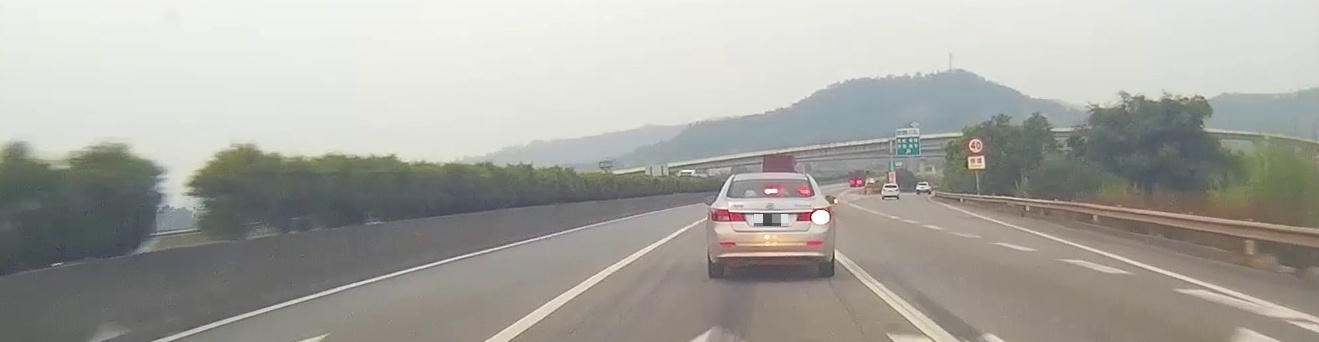L_light: (712, 207, 746, 222)
R_light: (796, 208, 830, 224)
T_light: (763, 188, 778, 193)
day-right: (706, 171, 835, 278)
plate_1: (754, 214, 788, 226)
